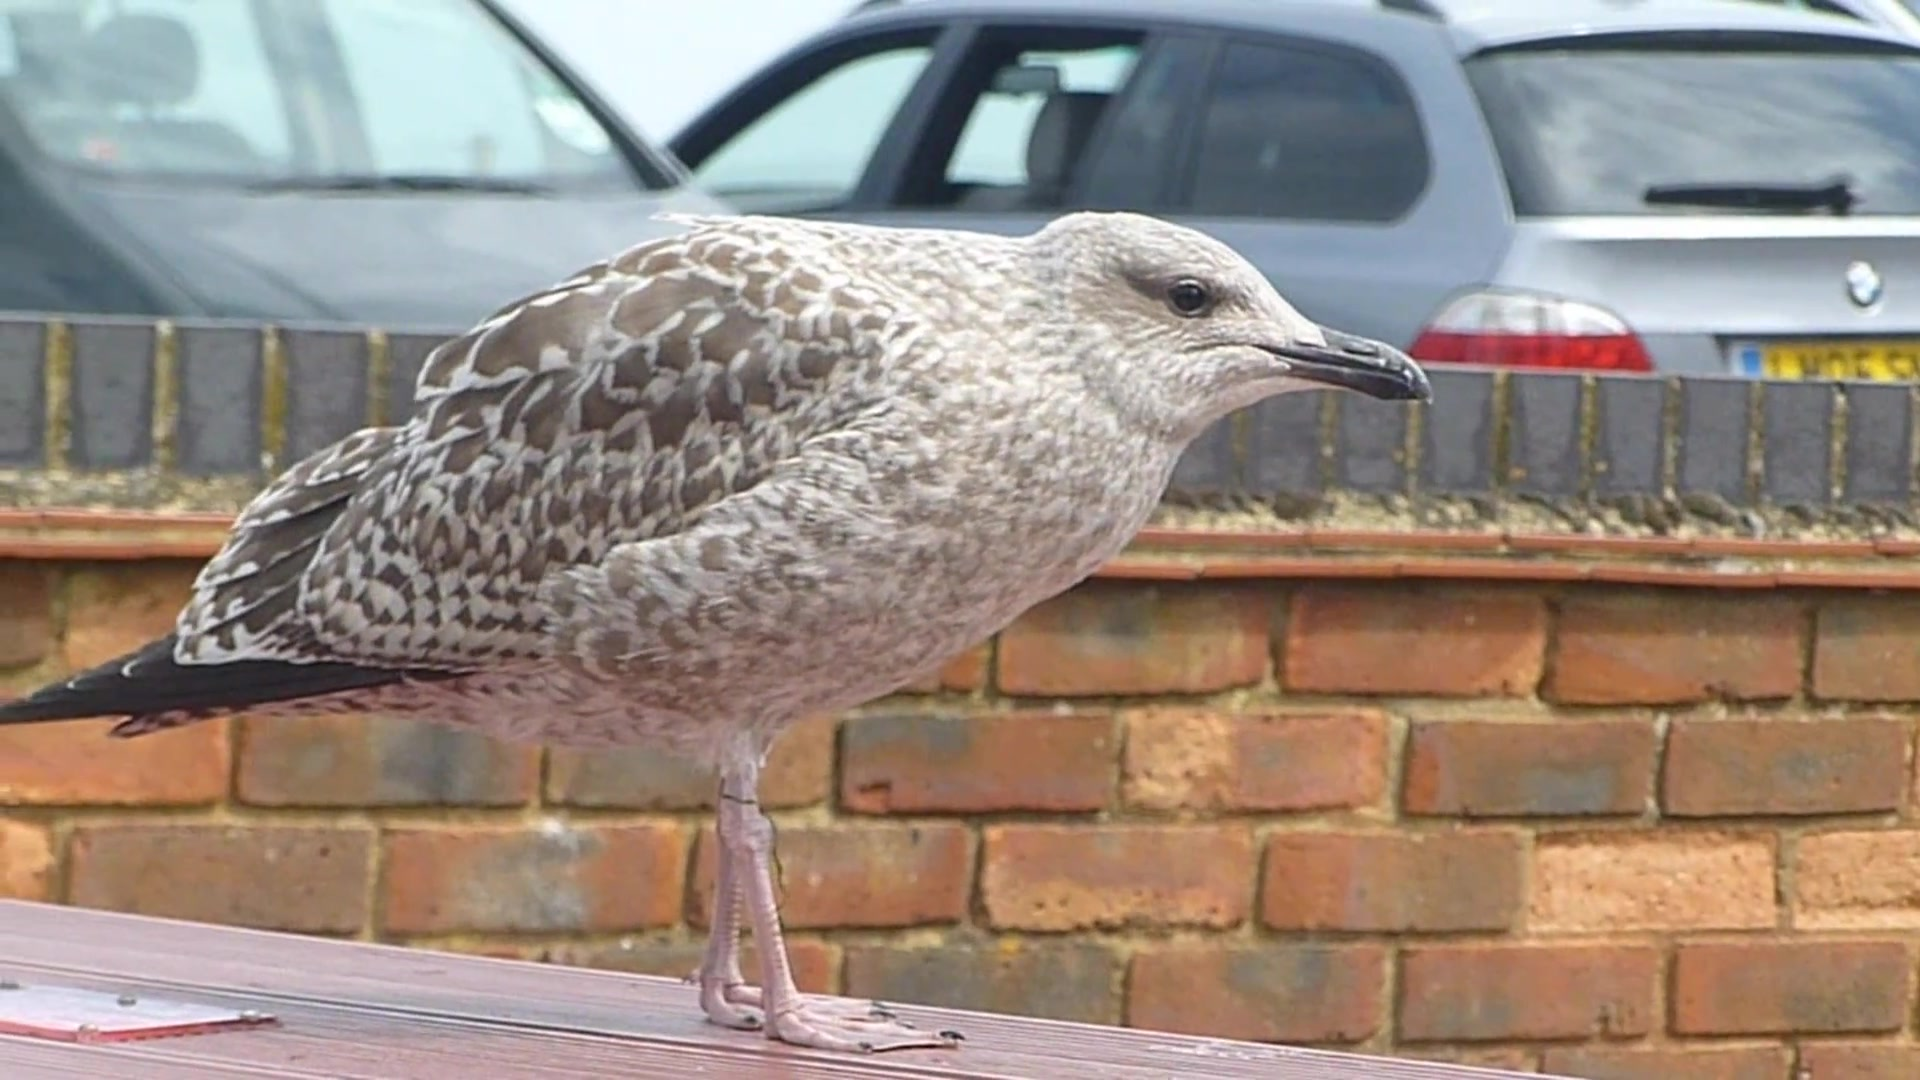bird: (1, 200, 1433, 1065)
